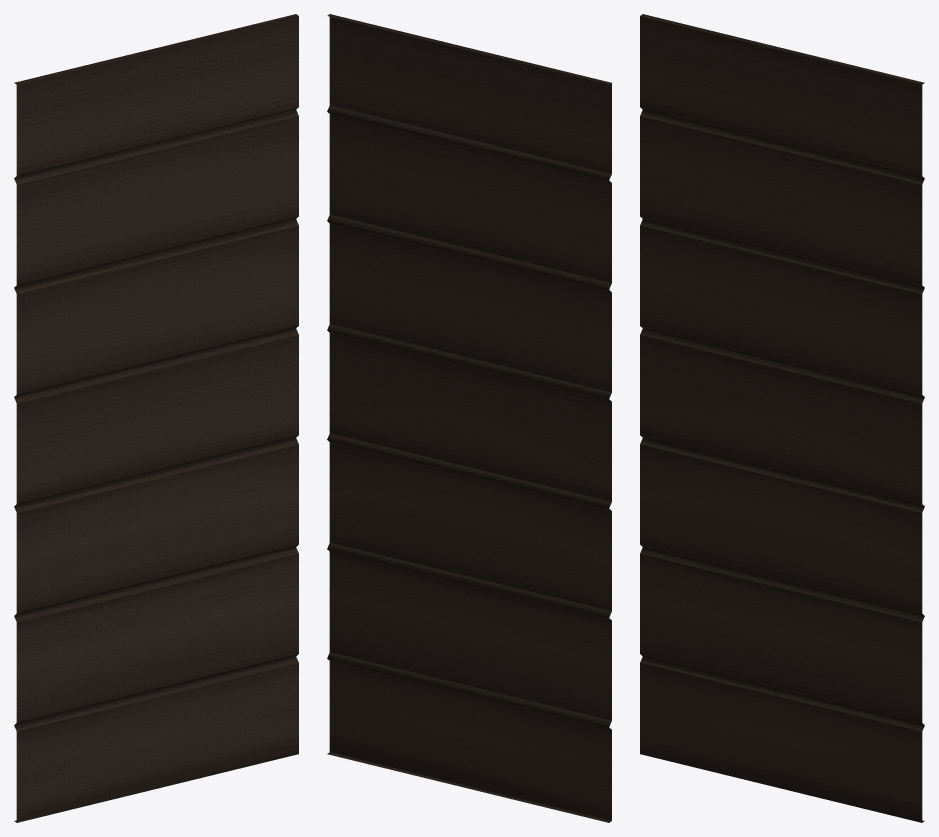
Rendered from Wall_Panel.fbx.
The picture shows the model from 3 angles, left to right: view 1: azimuth 30°, elevation 25°; view 2: azimuth 150°, elevation 25°; view 3: azimuth 330°, elevation 25°; orthographic projection.
Visible parts, largest first — view 1: Whatever7; view 2: Whatever7; view 3: Whatever7.
Part boxes in pixels (x1,y1,x2,y2): Whatever7: [14, 14, 298, 822]; Whatever7: [327, 14, 611, 822]; Whatever7: [640, 14, 924, 822].
Bounding box in the file's own units: 100 × 250 × 1.71.
